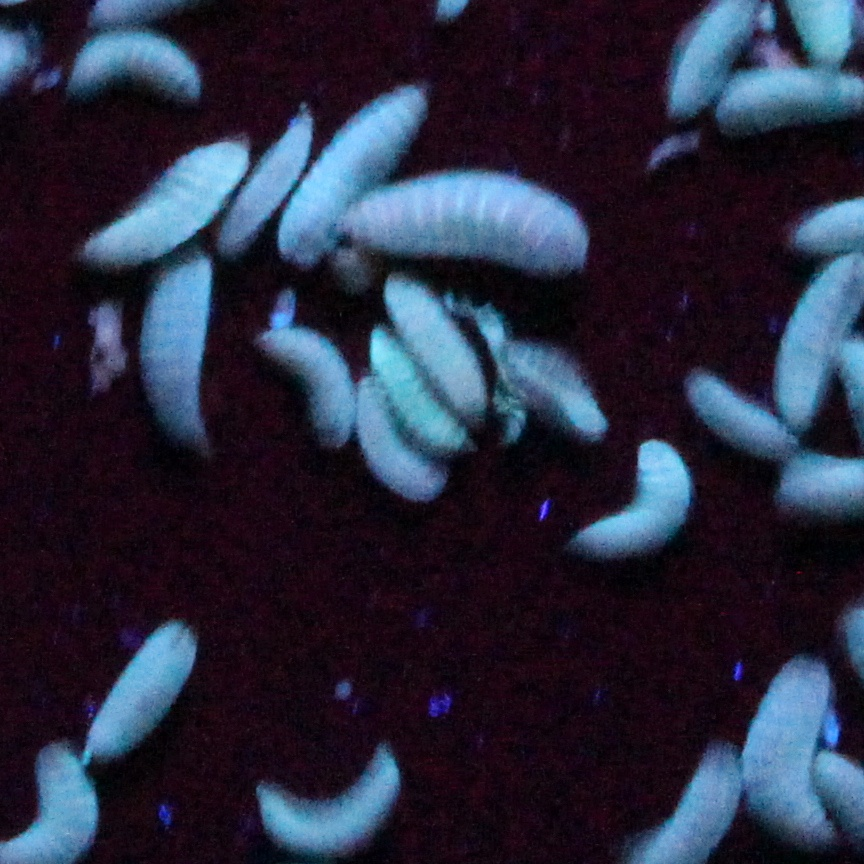larve: (273, 79, 431, 258), (342, 164, 592, 275), (71, 135, 256, 260), (81, 619, 196, 762), (254, 744, 400, 856), (752, 660, 833, 850), (208, 108, 312, 250), (379, 279, 485, 414), (579, 437, 696, 558), (146, 250, 215, 452), (258, 321, 358, 448), (371, 333, 469, 452), (352, 377, 448, 498), (492, 341, 610, 431), (683, 364, 796, 456), (67, 29, 202, 96)
